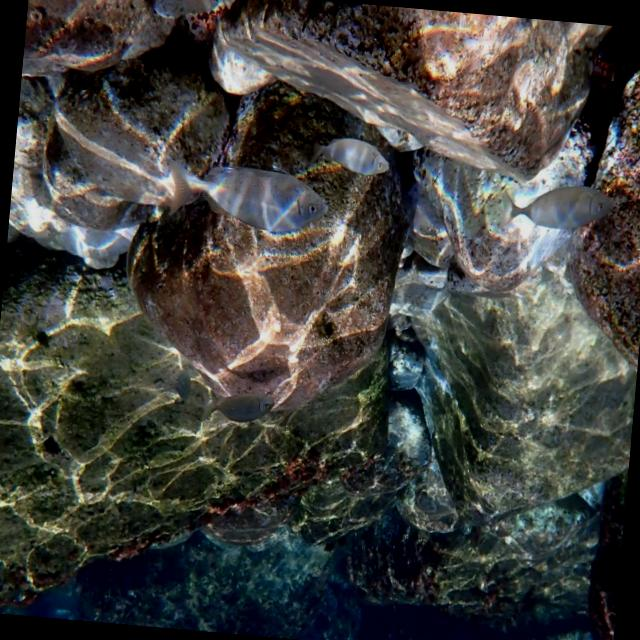Sokar Baligi: (154, 136, 334, 254), (486, 171, 618, 250), (302, 115, 391, 188)
